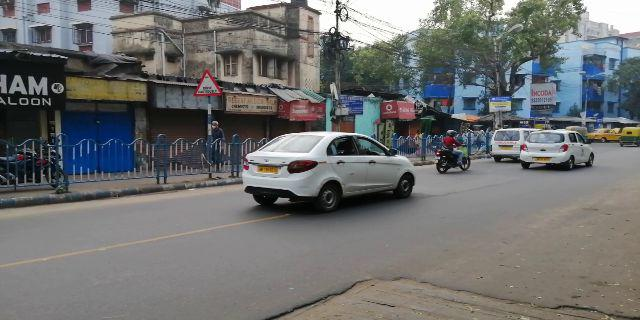Car: (238, 134, 422, 204), (523, 131, 596, 171)
Motorbike: (437, 131, 472, 172)
